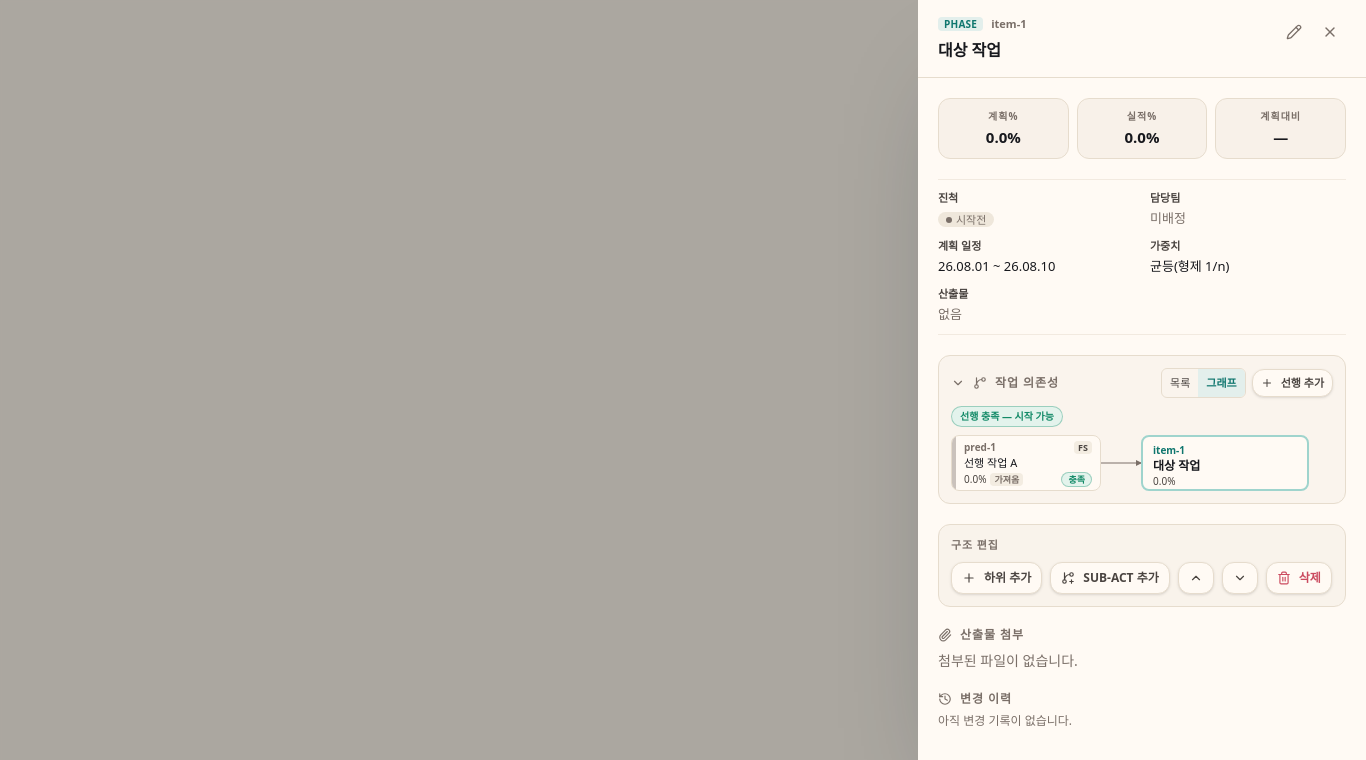
Test: RowDetailPanel — 선행/후속 섹션 › wbs.md 에서 합성된 선행(origin=spec) › '가져옴' 배지를 달고 삭제 버튼을 주지 않는다 — 정본이 wbs.md 라 지워도 되살아난다
Step 1. Click the button "목록" → (1180, 383), box [1162,369,1198,397]
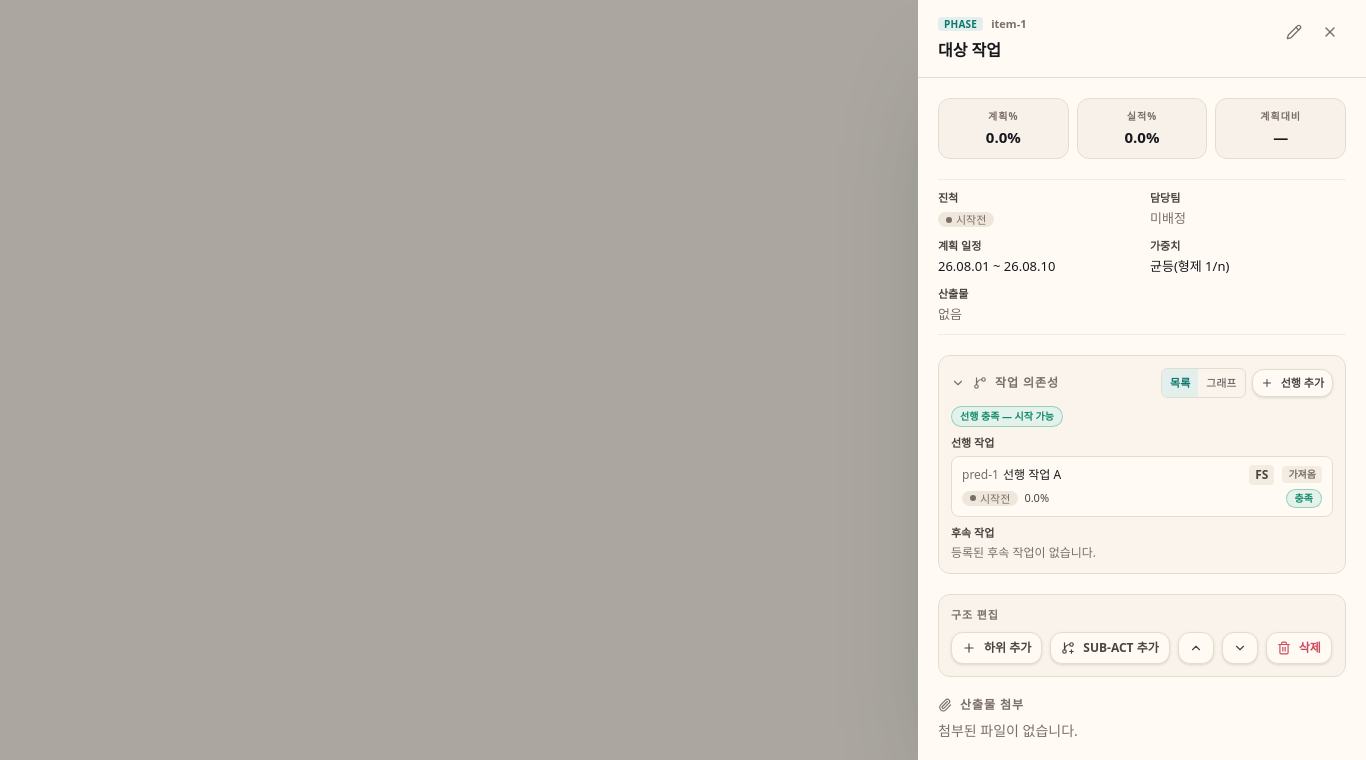
Check: the list item "pred-1선행 작업 A FS 가져옴 시작전 0.0% 충족" is shown, box [951,456,1333,517]
